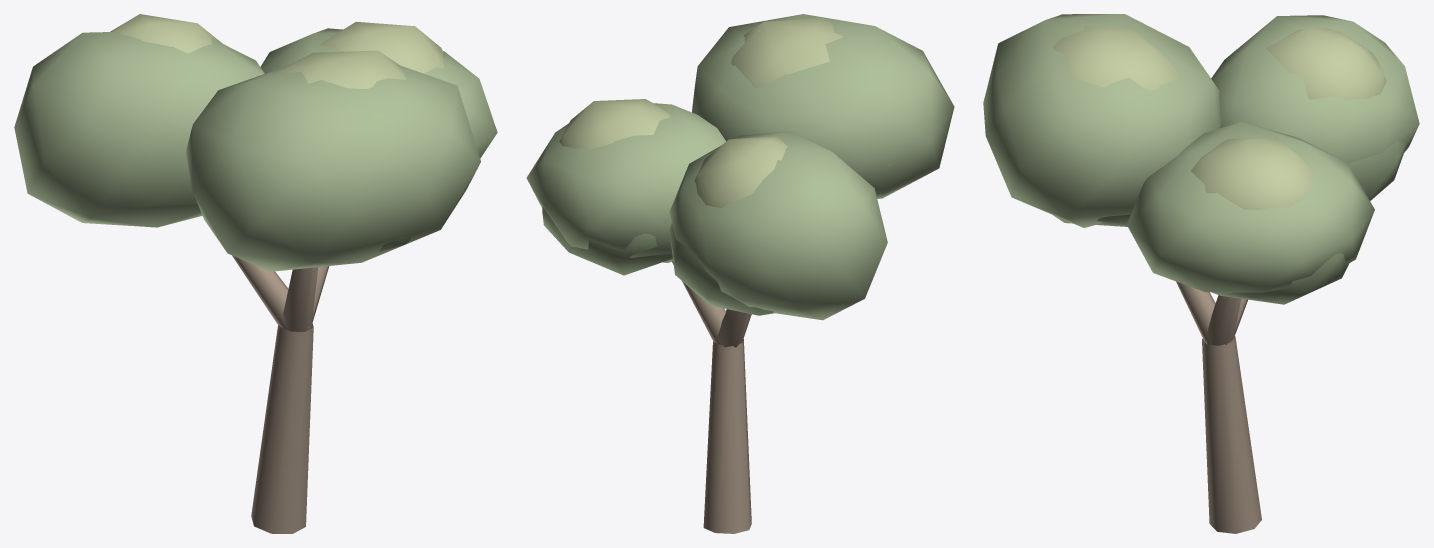
The model's file is tree_ceibo_4.glb.
The picture shows the model from 3 angles, left to right: view 1: azimuth 30°, elevation 25°; view 2: azimuth 150°, elevation 25°; view 3: azimuth 270°, elevation 25°; orthographic projection. The views are drawn at different scales.
Visible parts, largest first — view 1: tree_ceibo_4.glb; view 2: tree_ceibo_4.glb; view 3: tree_ceibo_4.glb.
Boxes of the visible parts, bbox=[...] form: tree_ceibo_4.glb: bbox=[14, 14, 497, 533]; tree_ceibo_4.glb: bbox=[526, 14, 954, 533]; tree_ceibo_4.glb: bbox=[983, 14, 1419, 533].
Bounding box in the file's own units: 4.13 × 5.03 × 4.14.
